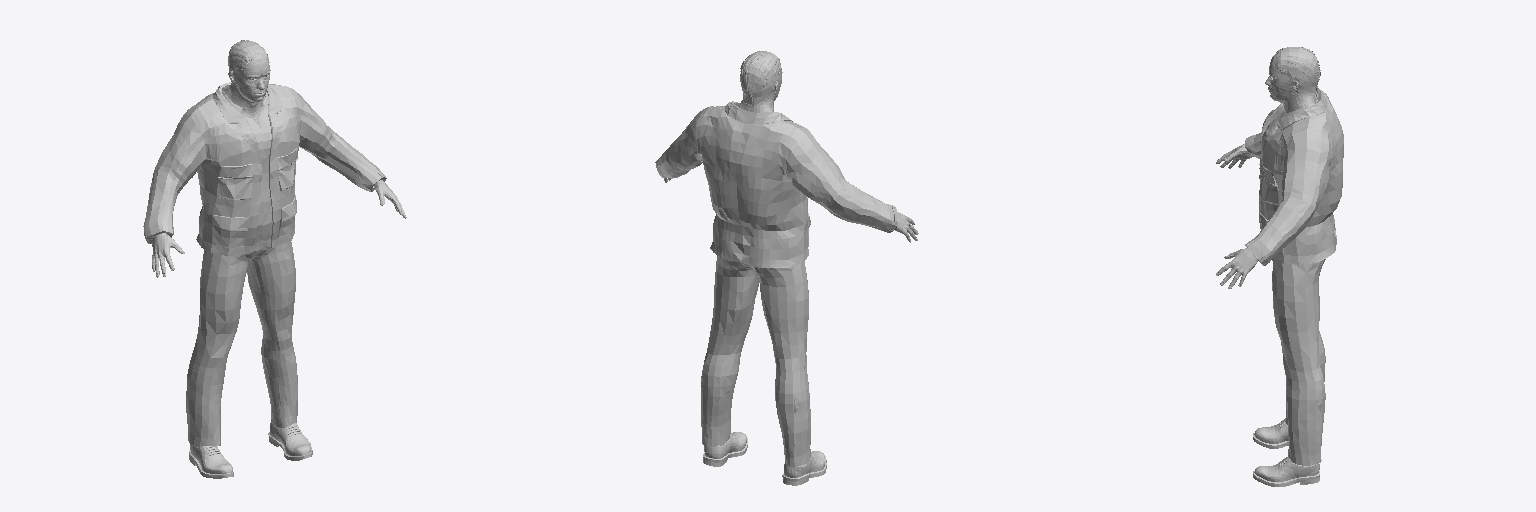
3 views of the same model, side by side, from view 1: azimuth 30°, elevation 25°; view 2: azimuth 150°, elevation 25°; view 3: azimuth 270°, elevation 25° (orthographic).
Parts seen in each view (by area): view 1: Ml1:Male_casualsuit05, Ml1:Body, Ml1:Shoes03, Ml1:Short04; view 2: Ml1:Male_casualsuit05, Ml1:Short04, Ml1:Shoes03, Ml1:Body; view 3: Ml1:Male_casualsuit05, Ml1:Body, Ml1:Shoes03, Ml1:Short04.
Part boxes in pixels (x1,y1,x2,y2): Ml1:Male_casualsuit05: (143, 82, 386, 446); Ml1:Body: (152, 61, 406, 277); Ml1:Shoes03: (189, 420, 312, 478); Ml1:Short04: (228, 40, 269, 85); Ml1:Male_casualsuit05: (655, 101, 898, 466); Ml1:Short04: (740, 51, 781, 107); Ml1:Shoes03: (703, 432, 826, 485); Ml1:Body: (664, 72, 918, 242); Ml1:Male_casualsuit05: (1245, 87, 1343, 465); Ml1:Body: (1216, 59, 1316, 288); Ml1:Shoes03: (1253, 418, 1319, 486); Ml1:Short04: (1272, 47, 1320, 95).
Bounding box in the file's own units: 1.31 × 2.08 × 0.5843.